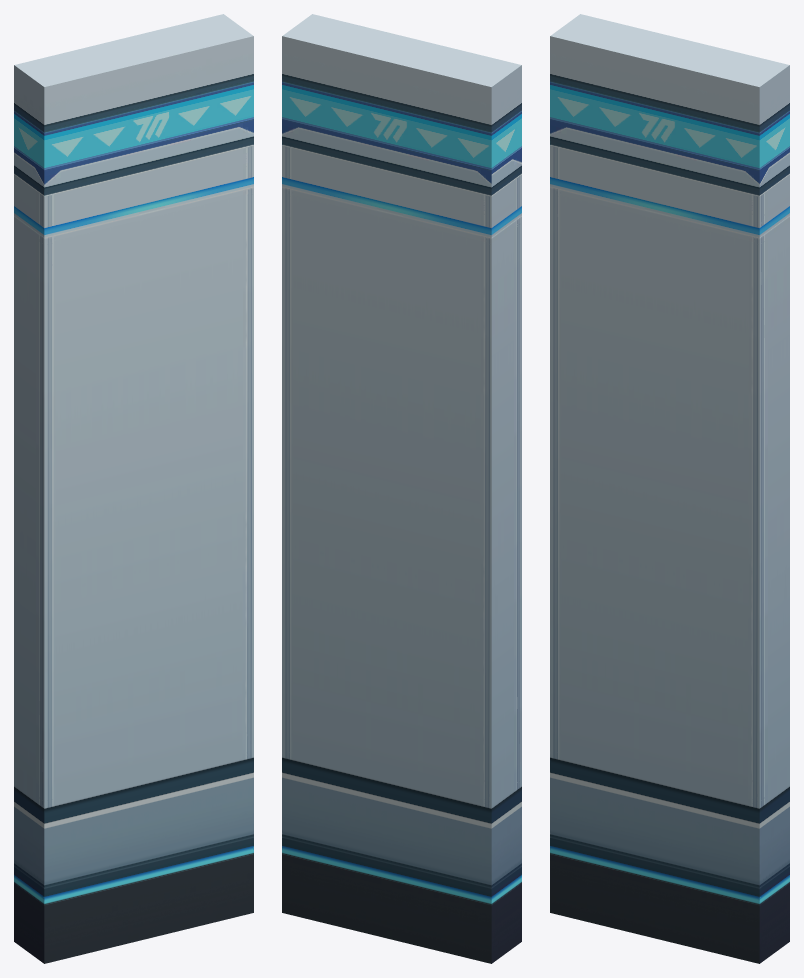
The model's file is my_millenniumlounge_01_wall_left.glb.
The picture shows the model from 3 angles, left to right: view 1: azimuth 30°, elevation 25°; view 2: azimuth 150°, elevation 25°; view 3: azimuth 330°, elevation 25°; orthographic projection.
Parts seen in each view (by area): view 1: my_millenniumlounge_01_wall_left; view 2: my_millenniumlounge_01_wall_left; view 3: my_millenniumlounge_01_wall_left.
Boxes of the visible parts, box(x1,y1,x2,y2) form: my_millenniumlounge_01_wall_left: box(14, 14, 253, 963); my_millenniumlounge_01_wall_left: box(282, 14, 521, 963); my_millenniumlounge_01_wall_left: box(550, 14, 789, 963).
Bounding box in the file's own units: 0.012 × 0.048 × 0.003.
2 materials, 2 textured.
